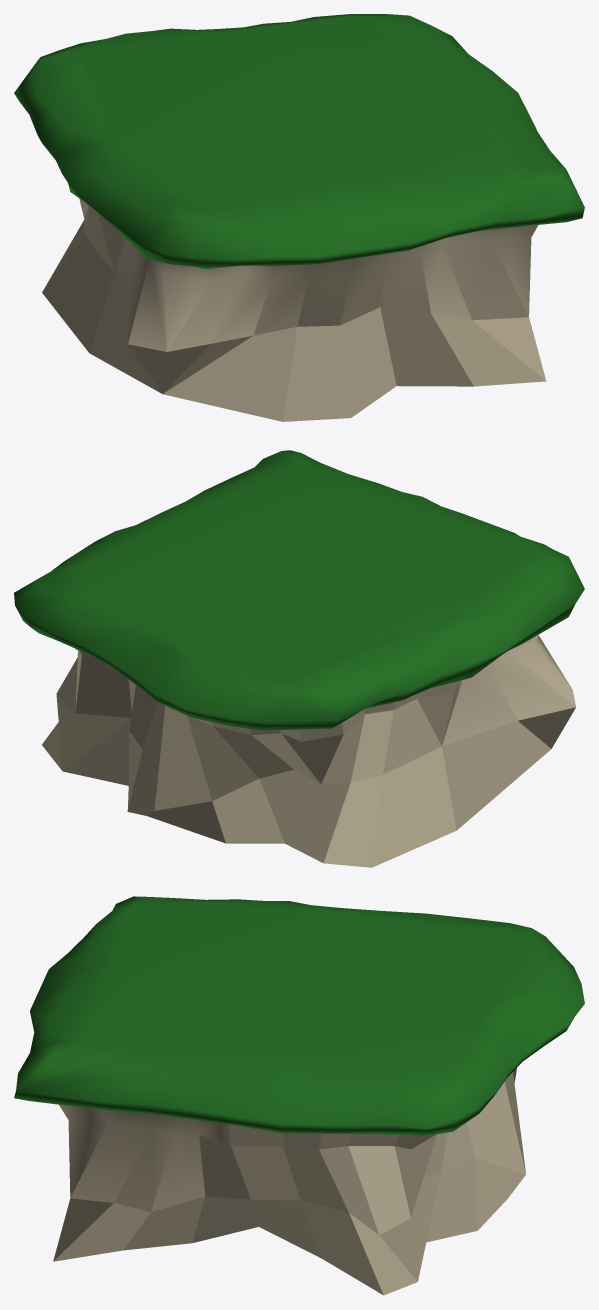
File: SM_Cliff1.fbx
3 views of the same model, one above another, from view 1: azimuth 30°, elevation 25°; view 2: azimuth 150°, elevation 25°; view 3: azimuth 270°, elevation 25° (orthographic). The views are drawn at different scales.
Parts seen in each view (by area): view 1: SM_Cliffs4; view 2: SM_Cliffs4; view 3: SM_Cliffs4.
Boxes of the visible parts, x1,y1,x2,y2 form: SM_Cliffs4: (14, 14, 584, 421); SM_Cliffs4: (14, 450, 584, 867); SM_Cliffs4: (14, 896, 584, 1295).
Bounding box in the file's own units: 8.53 × 4.08 × 9.42.
